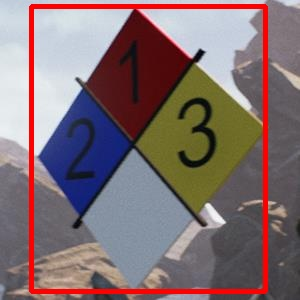nfpa: (31, 6, 265, 291)
